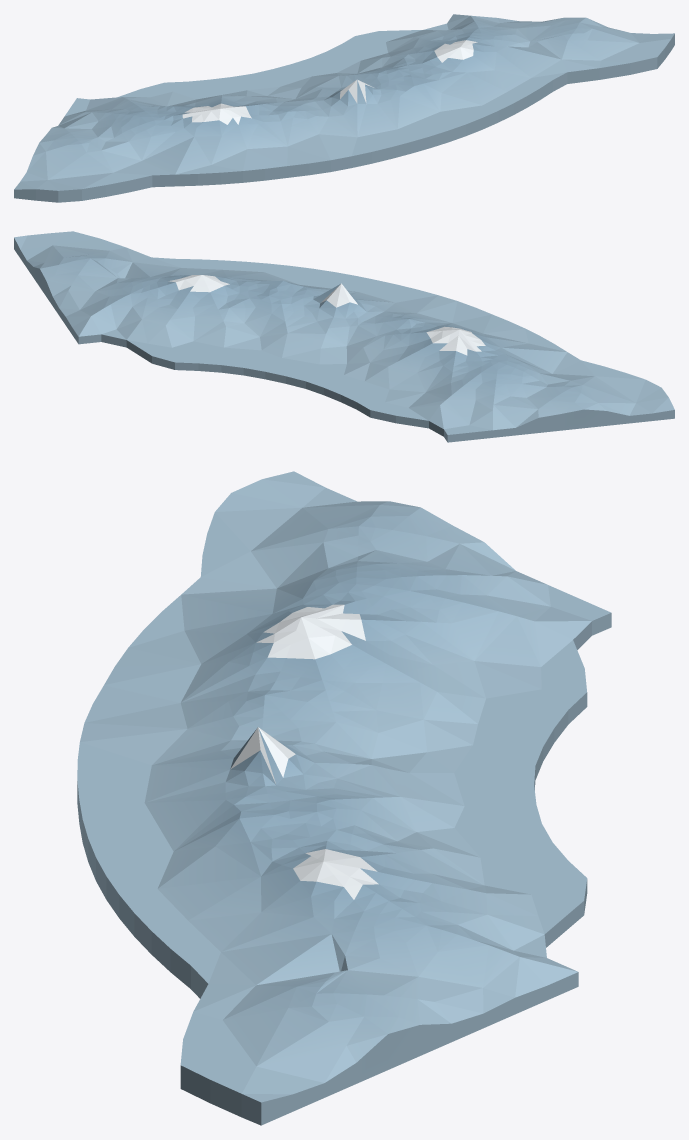
The model's file is mountains_menu_near.fbx.
3 renders of one model, top to bottom at view 1: azimuth 30°, elevation 25°; view 2: azimuth 150°, elevation 25°; view 3: azimuth 270°, elevation 25°, orthographic. The views are drawn at different scales.
Parts seen in each view (by area): view 1: mountains_menu_near; view 2: mountains_menu_near; view 3: mountains_menu_near.
Part boxes in pixels (left/top/right/bottom): mountains_menu_near: left=14, top=14, right=674, bottom=202; mountains_menu_near: left=14, top=231, right=674, bottom=442; mountains_menu_near: left=77, top=471, right=611, bottom=1125.
Size of the model in its own units: 462 by 29.66 by 164.
